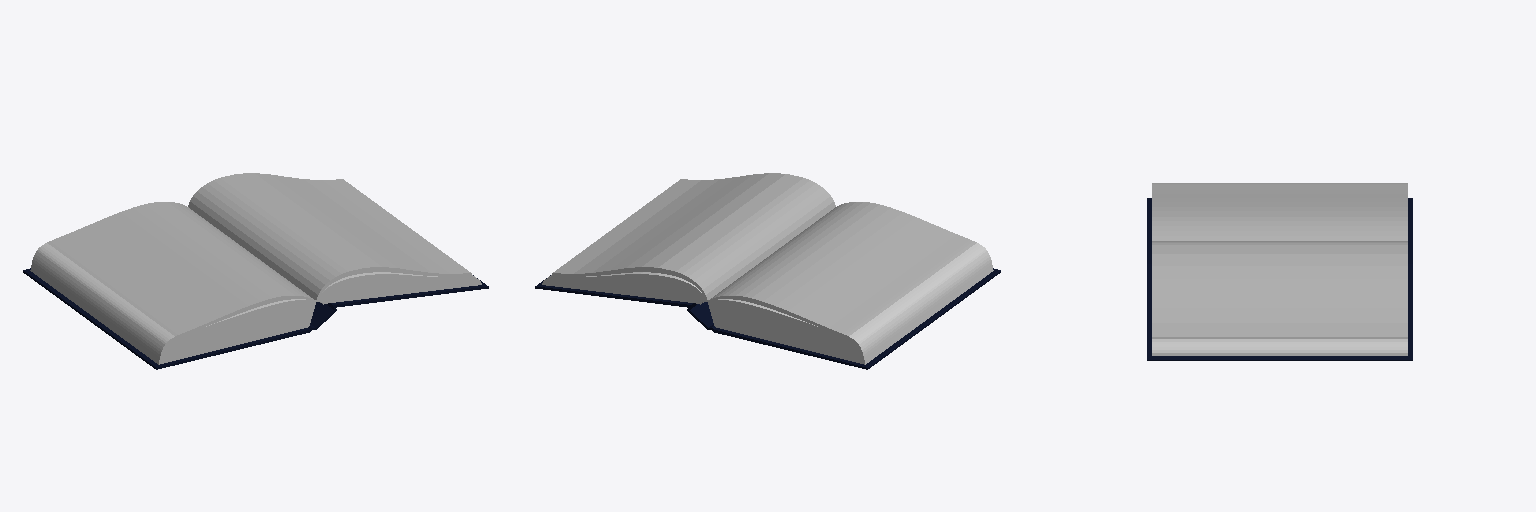
The model's file is RecipeBookOpened.obj.
3 views of the same model, side by side, from view 1: azimuth 30°, elevation 25°; view 2: azimuth 150°, elevation 25°; view 3: azimuth 270°, elevation 25° (orthographic).
Parts seen in each view (by area): view 1: BOOK_OPENE; view 2: BOOK_OPENE; view 3: BOOK_OPENE.
Boxes of the visible parts, box(x1,y1,x2,y2) form: BOOK_OPENE: box(23, 173, 488, 369); BOOK_OPENE: box(535, 173, 1000, 369); BOOK_OPENE: box(1147, 183, 1412, 360).
Size of the model in its own units: 0.8935 by 0.1258 by 0.6201.